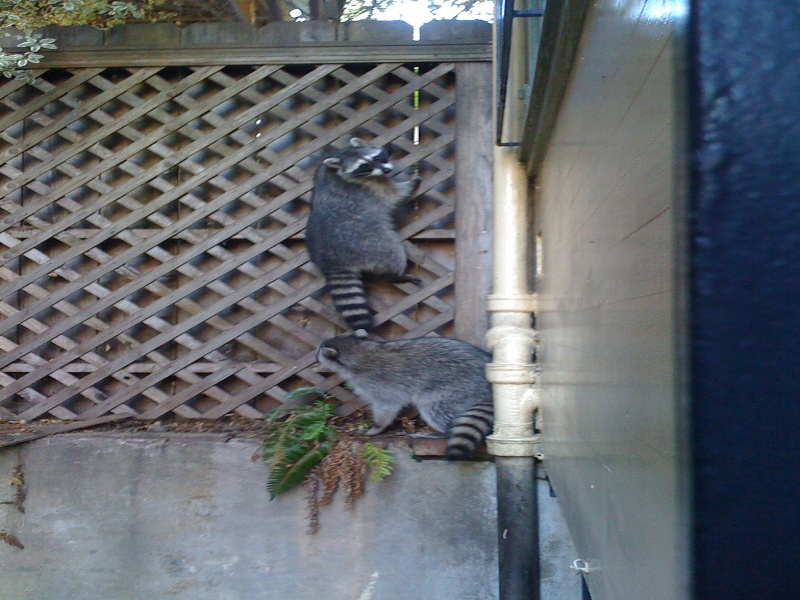raccoon: (315, 332, 500, 465), (305, 134, 422, 336)
